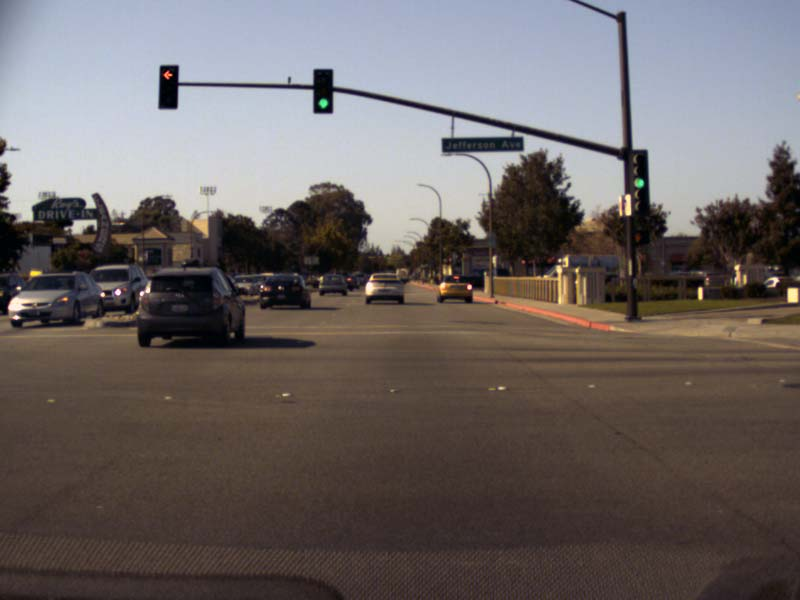Green: (314, 71, 333, 110), (631, 149, 646, 190)
Red: (159, 64, 178, 106)
